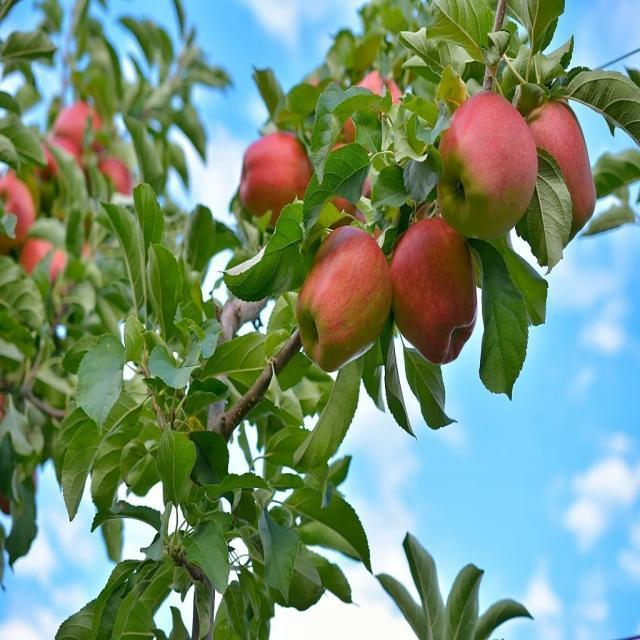Red Apple: (440, 96, 539, 232), (301, 227, 396, 368), (390, 219, 483, 356), (516, 90, 599, 236), (240, 142, 314, 218), (347, 70, 394, 138), (23, 238, 69, 292), (1, 175, 36, 245), (339, 177, 379, 227), (62, 103, 98, 147), (45, 141, 82, 182), (101, 155, 133, 199)
